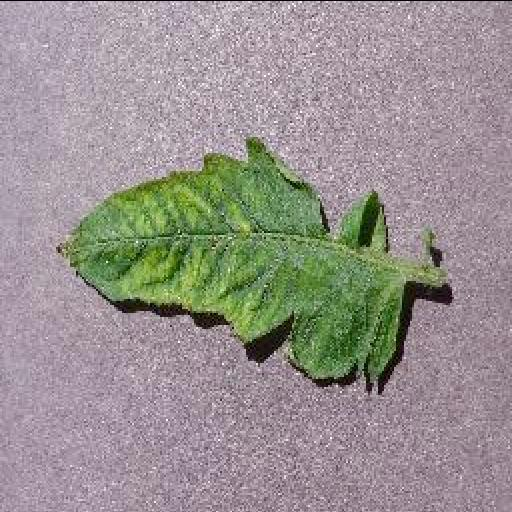disease_tomato: (53, 134, 407, 390)
